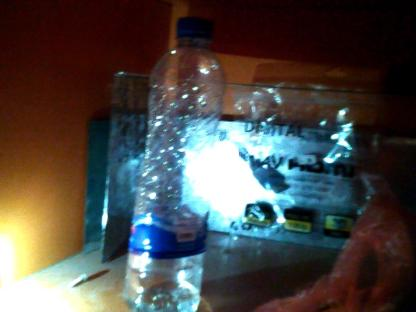Plastic Bottle: (127, 17, 227, 312)
